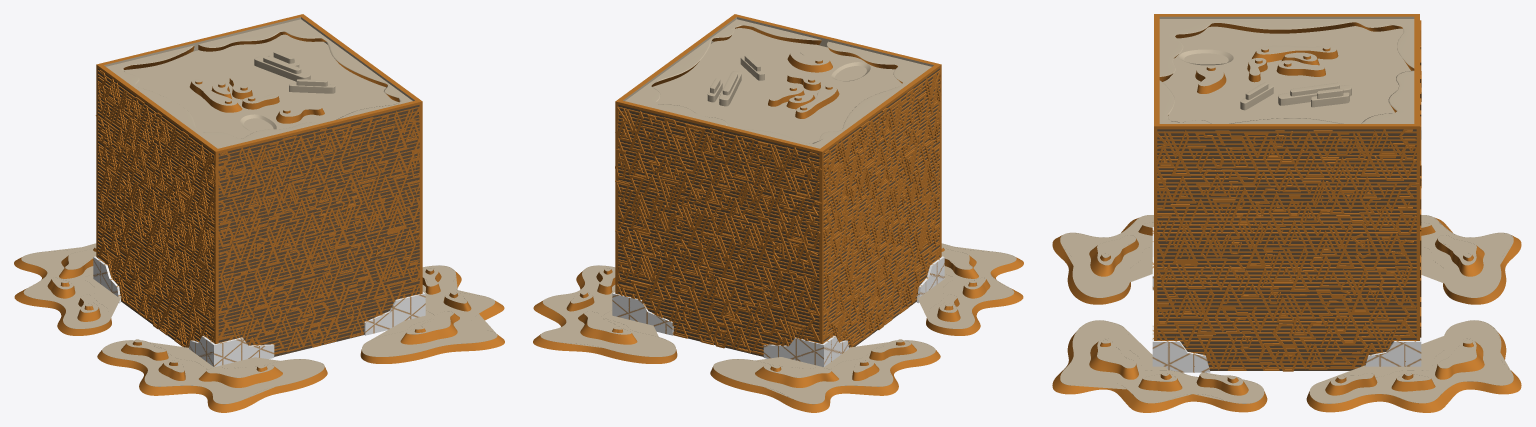
File: SM_MUKAAB_low.fbx
3 renders of one model, left to right at view 1: azimuth 30°, elevation 25°; view 2: azimuth 150°, elevation 25°; view 3: azimuth 270°, elevation 25°, orthographic. The views are drawn at different scales.
Parts seen in each view (by area): view 1: MUKAAB; view 2: MUKAAB; view 3: MUKAAB.
Boxes of the visible parts, <box> form: MUKAAB: <box>14,14,504,412</box>; MUKAAB: <box>533,14,1023,412</box>; MUKAAB: <box>1052,14,1521,412</box>.
Size of the model in its own units: 6852 by 4058 by 6944.
5 materials, 1 textured.
